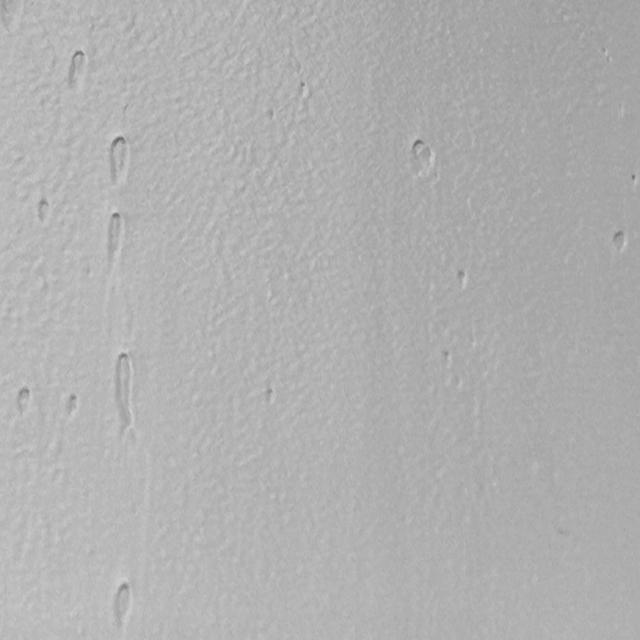pin holes: (112, 349, 138, 443), (108, 579, 140, 636), (108, 133, 136, 185), (408, 140, 439, 183), (65, 48, 88, 88), (105, 214, 127, 253), (13, 386, 34, 416), (610, 227, 631, 255), (36, 198, 56, 225), (65, 394, 83, 418), (439, 347, 456, 372), (453, 268, 470, 292), (262, 387, 278, 407), (298, 81, 311, 100), (266, 108, 277, 125), (628, 172, 638, 188)
